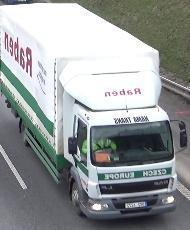Truck: (1, 2, 187, 222)
